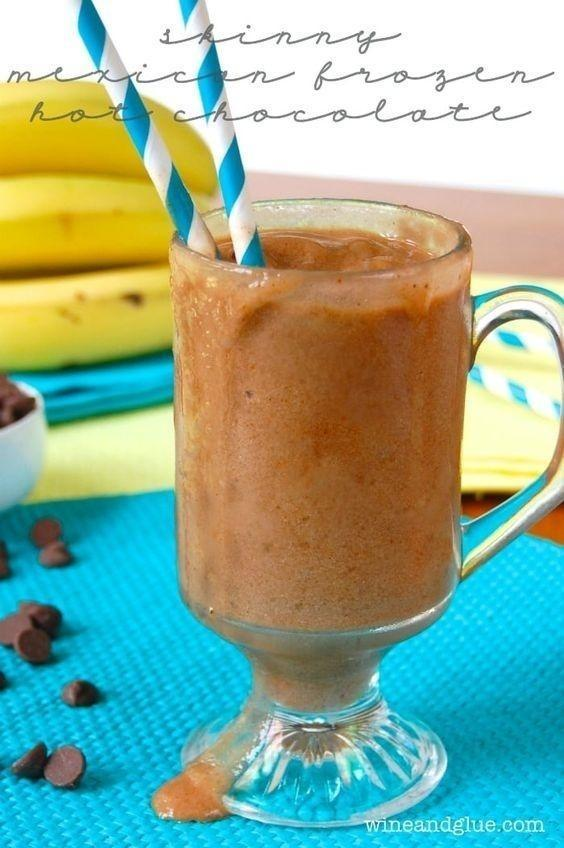glass-mug: (158, 191, 564, 827)
